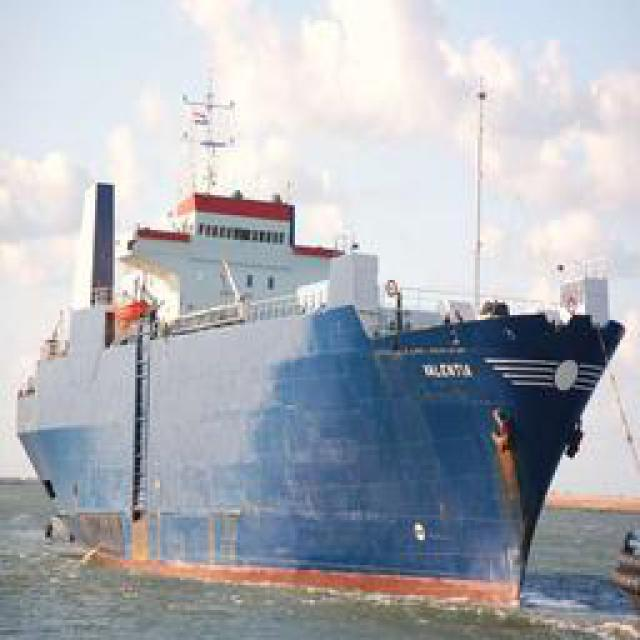Ship: (10, 249, 630, 604)
